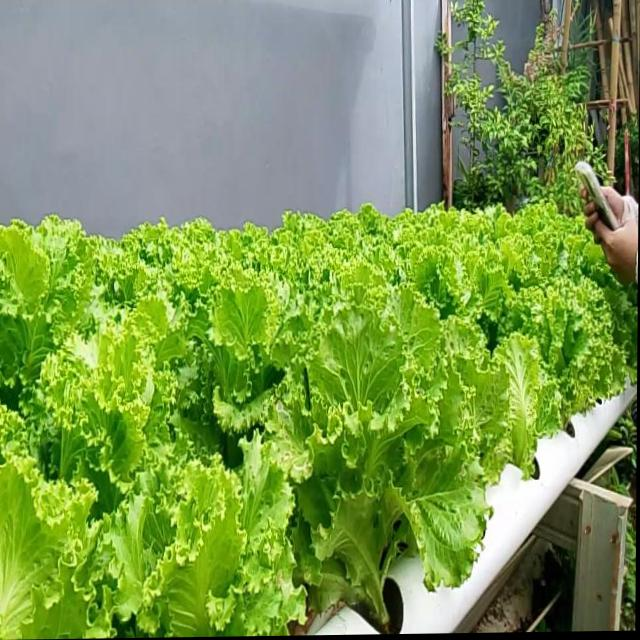Mature: (0, 203, 638, 639), (280, 320, 471, 615), (491, 247, 633, 461)
